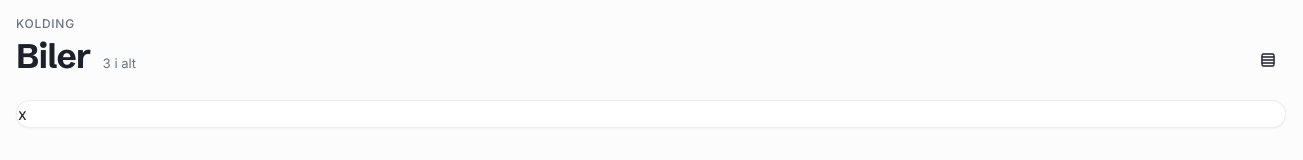
Test: shows department, count and toggles a remembered compact density
This screenshot has width=1303, height=160.
Expected: the text "Kolding" is shown, [16,16,75,31]
Expected: the text "3 i alt" is shown, [103,53,136,73]
Click the button named "Kompakt visning" at (1268, 60), box [1250,44,1286,76]
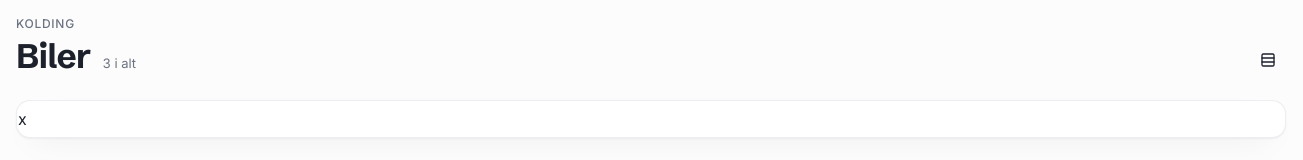
Expected: the button named "Normal visning" is pressed, [1250,44,1286,76]
